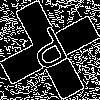P: (25, 25, 76, 81)
